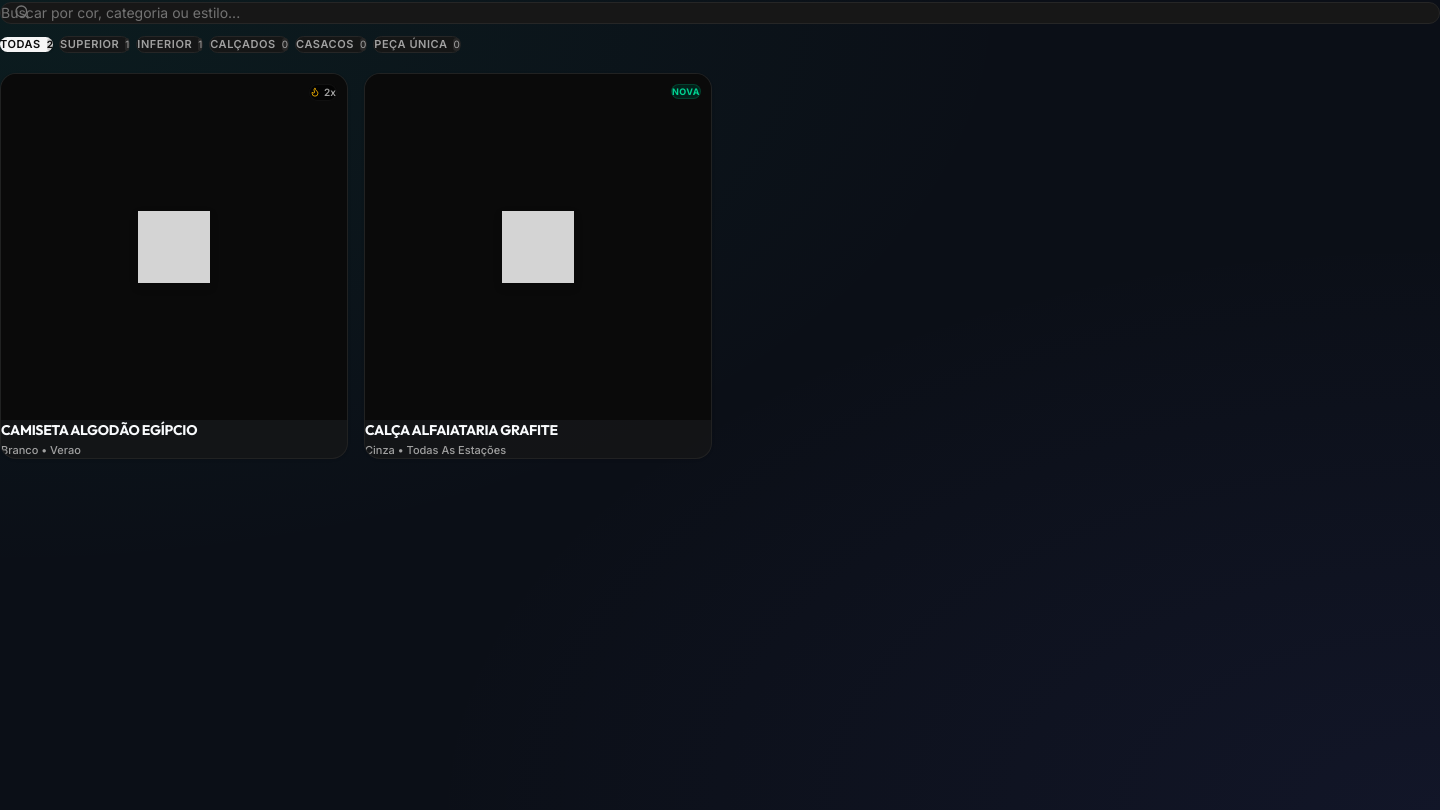
Agente de Automação de UI: Grade de Roupas (GOAT Grid) › deve abrir o modal de detalhes ao clicar no card
Click the element with test id "wardrobe-card".
click(174, 266)  # box x1=0 y1=73 x2=348 y2=459
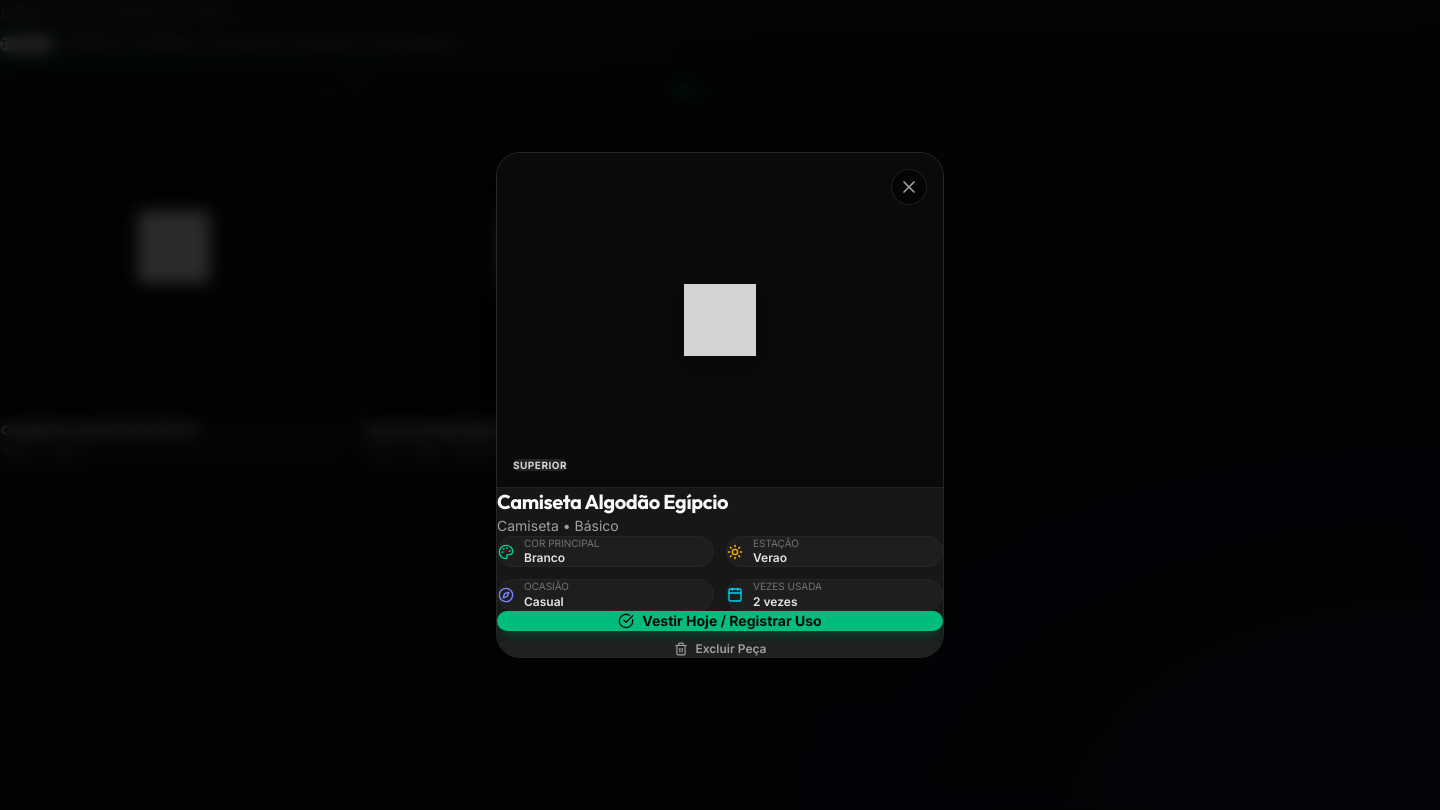
Check: the dialog with test id "item-detail-modal" is shown
Check: the heading with test id "modal-title" reads "Camiseta Algodão Egípcio", box x1=497 y1=489 x2=728 y2=514
